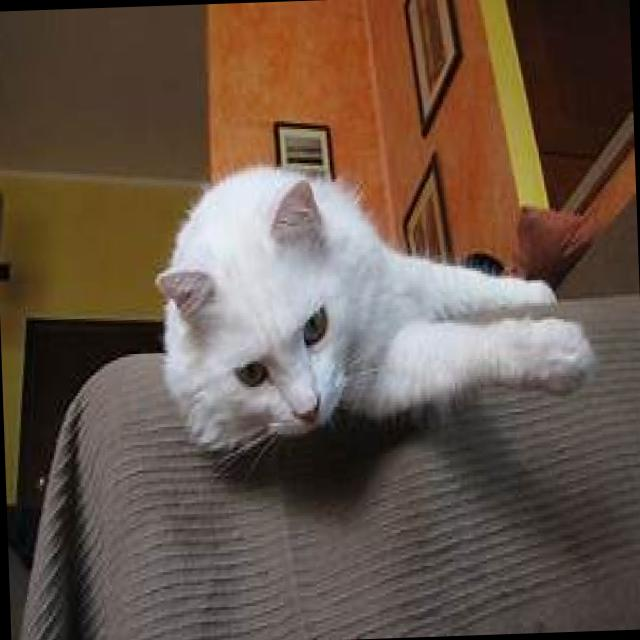animal: (148, 150, 600, 487)
